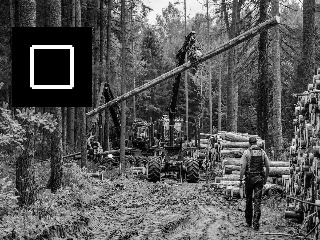square: (11, 27, 92, 107)
